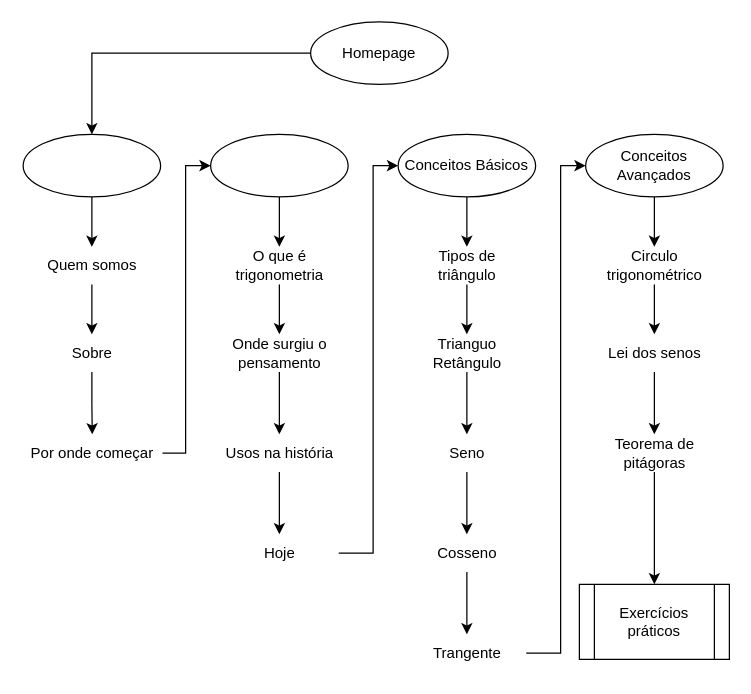
Image size: 751x694. Some labels were removed from this diagram. Each missing label, with the box of its shape:
História: (209, 133, 348, 197)
Início: (22, 133, 161, 197)
